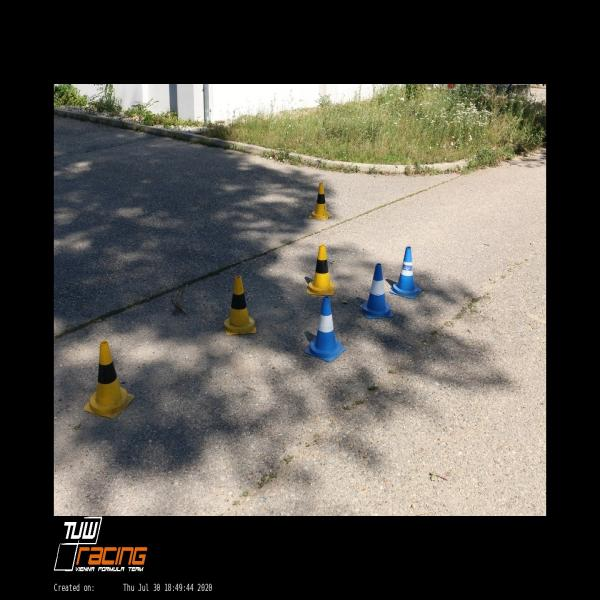blue_cone: (304, 296, 346, 362), (360, 264, 394, 318), (389, 246, 422, 298)
yellow_cone: (83, 340, 134, 418), (224, 275, 256, 335), (306, 244, 335, 295), (308, 182, 332, 221)
